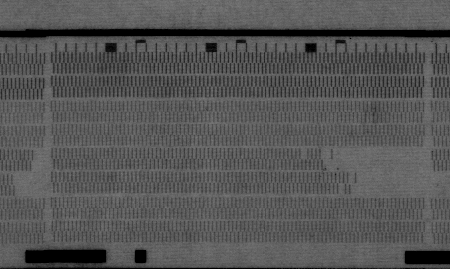Broken hole: (331, 147, 425, 199), (9, 174, 46, 198), (429, 168, 450, 198), (318, 147, 335, 172), (29, 149, 47, 170), (299, 148, 311, 162)
